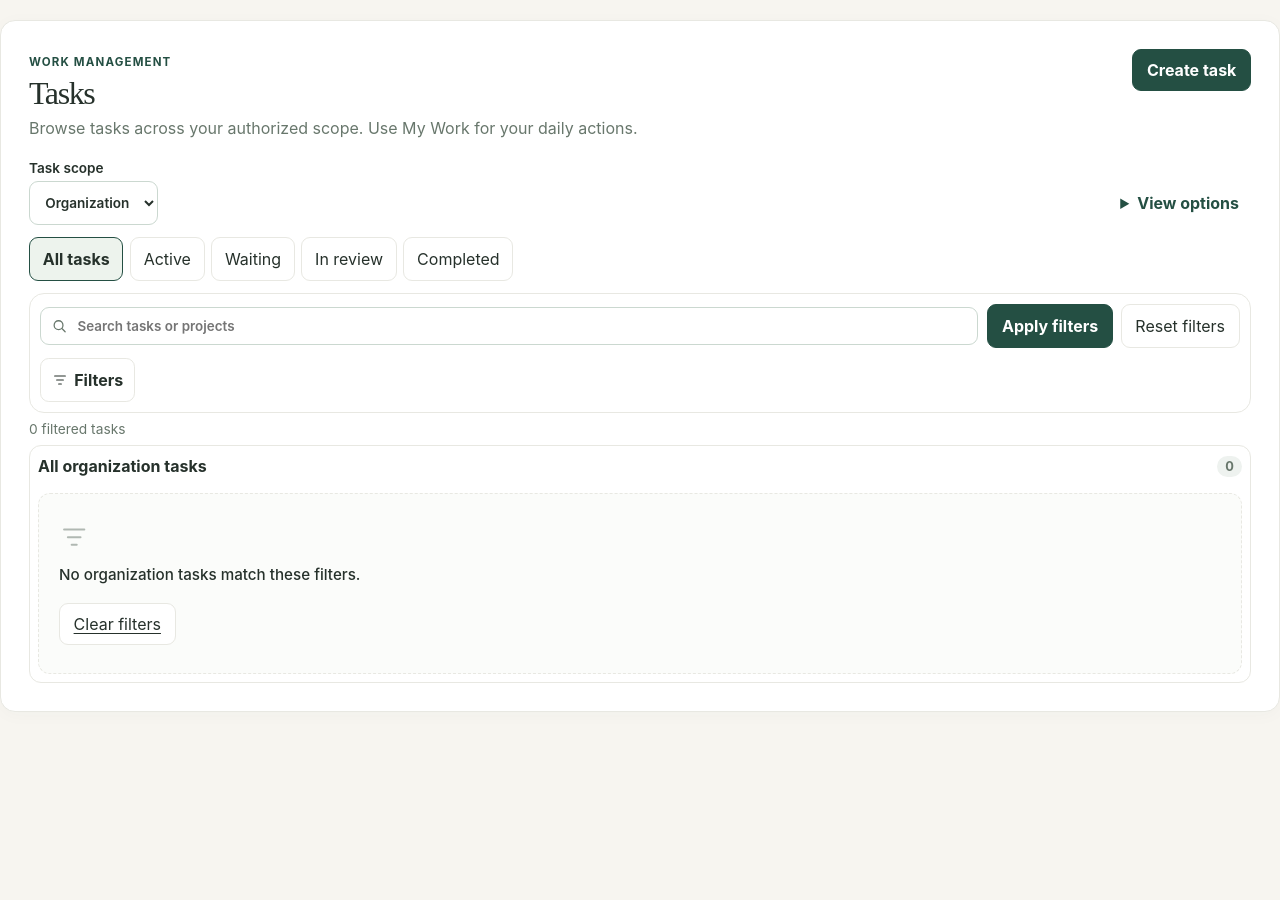
Scenario: TaskWorkspace › requires an explicit employee owner instead of an invalid self-task for an employee-less Owner
Click the button "Create task".
click(1192, 70)  # box [1132, 49, 1251, 91]
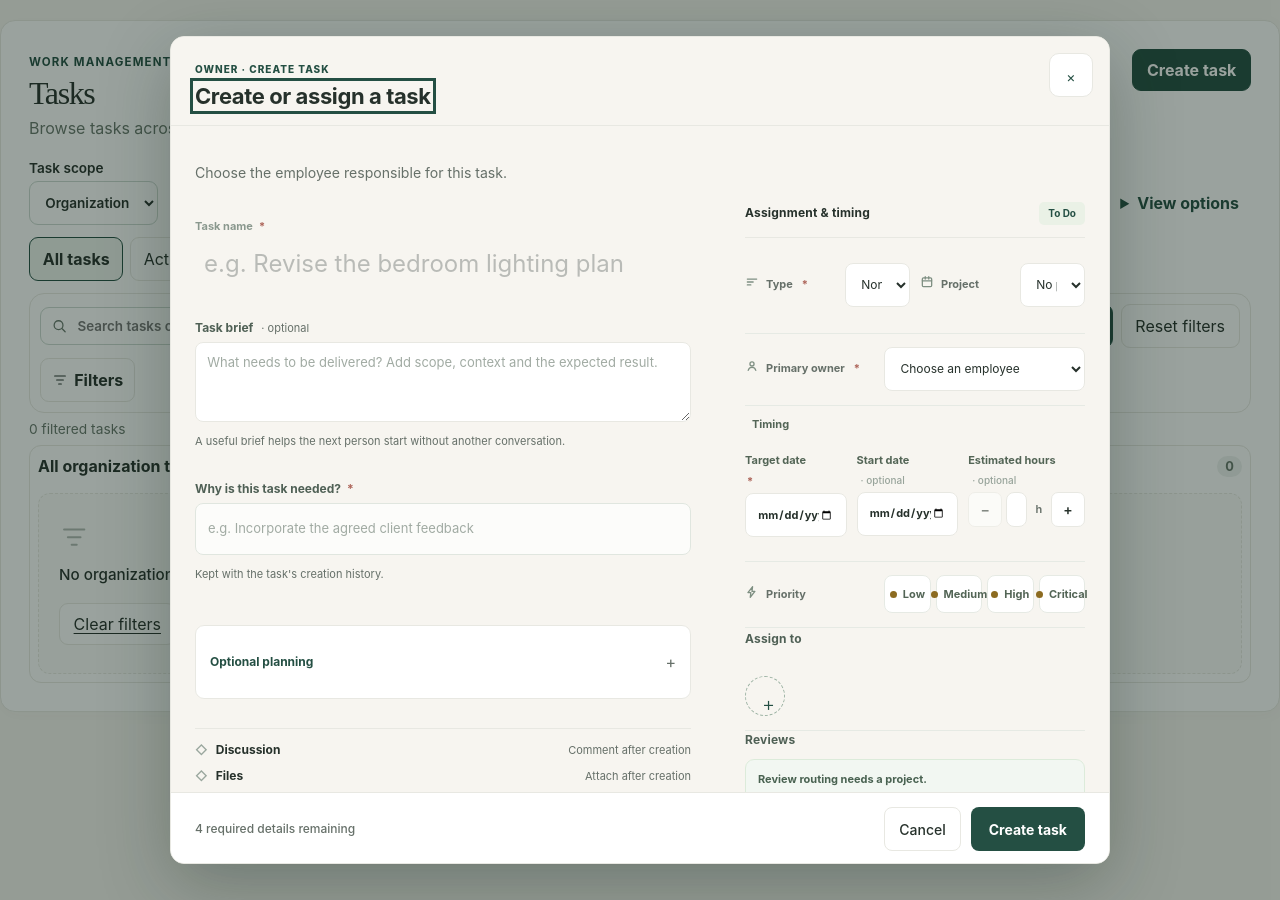
Type "Coordinate test delivery" into the field labelled "Task name".
click(443, 264); type("Coordinate test delivery")  # box [195, 239, 691, 289]
Type "2026-10-20" into the date field labelled "Target date".
click(796, 515); type("2026-10-20")  # box [745, 493, 847, 537]
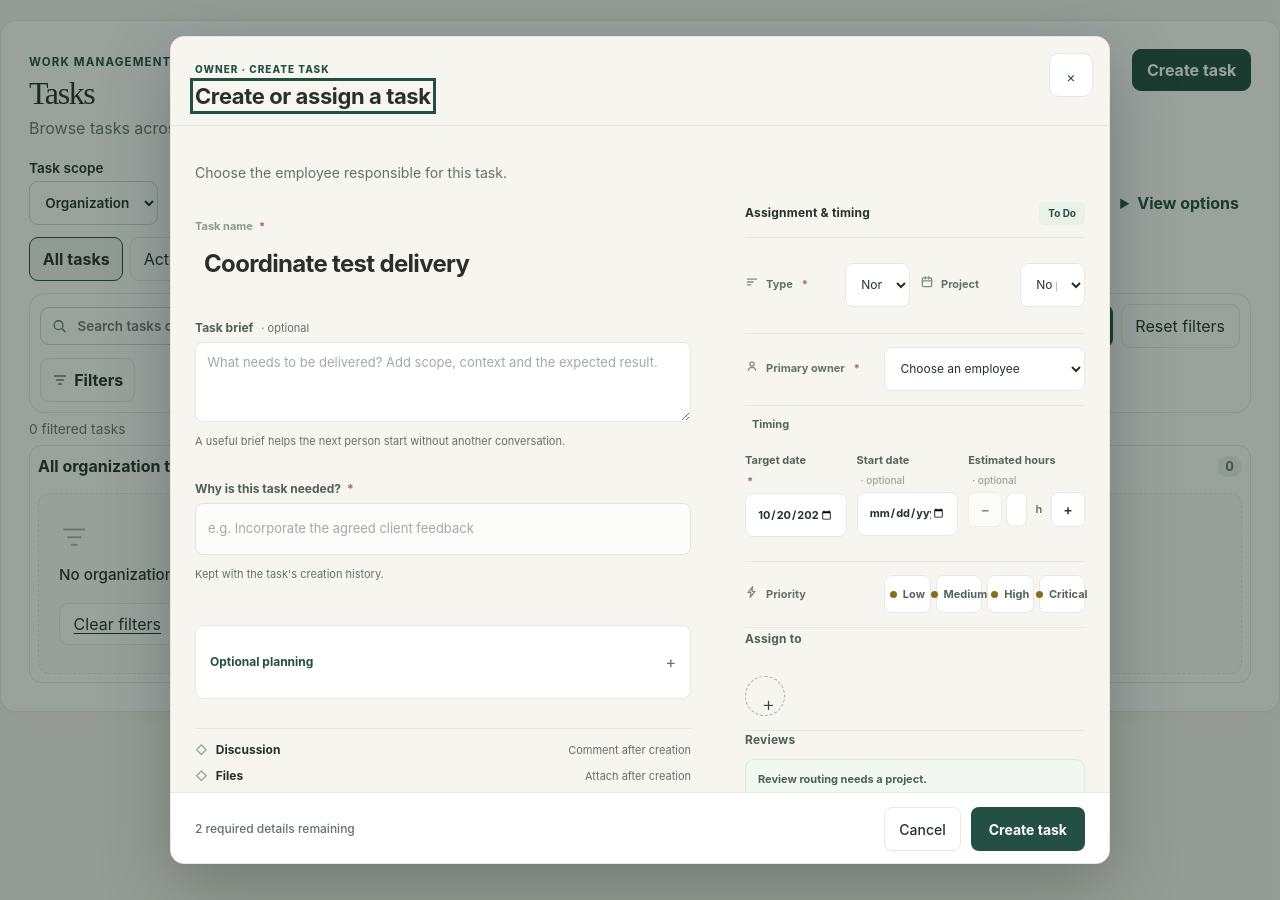
Type "Assign to the existing active employee" into the field named "Reason".
click(443, 529); type("Assign to the existing active employee")  # box [195, 503, 691, 555]
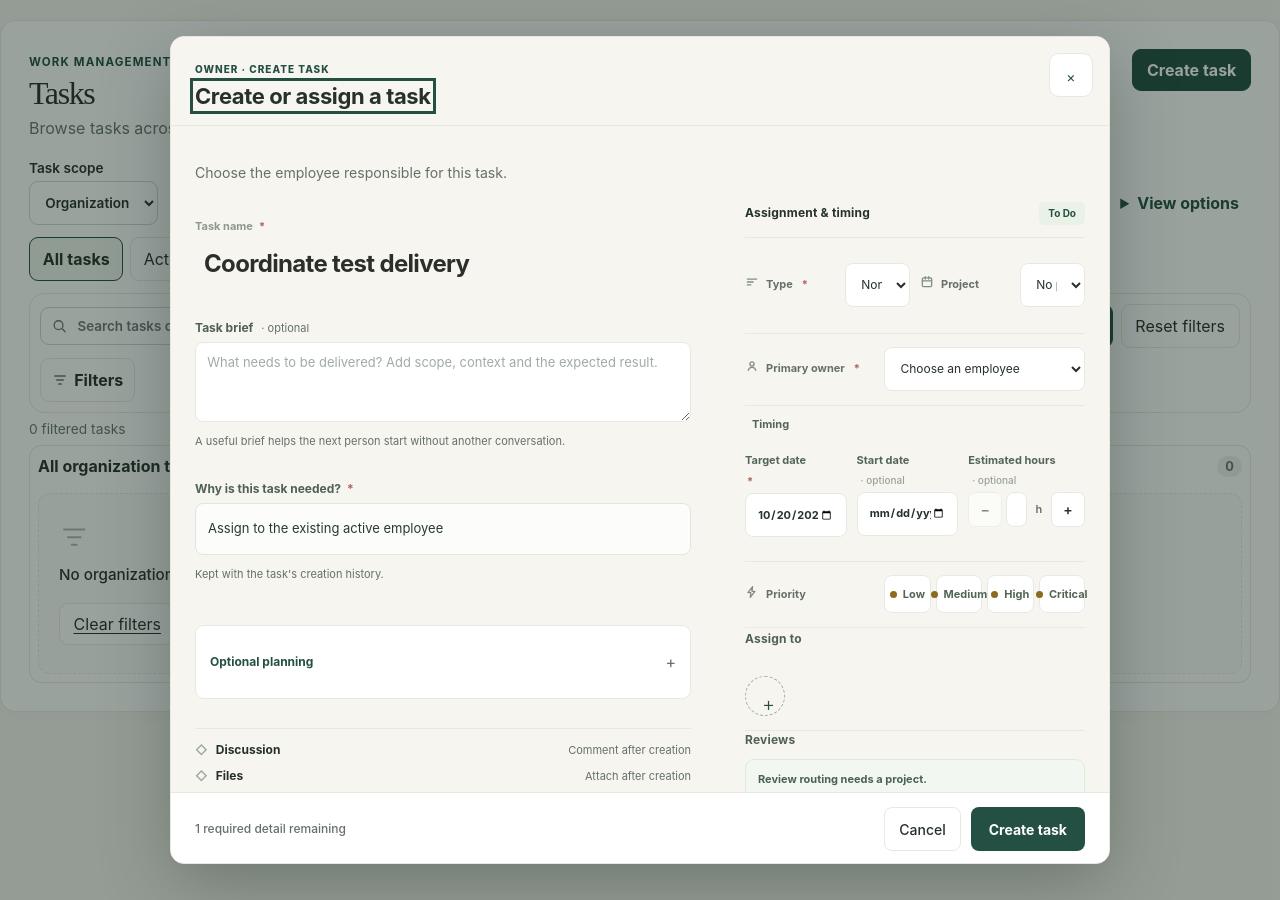
Now the button "Create task" is enabled
Click the button "Create task".
click(1028, 829)  # box [971, 807, 1085, 851]
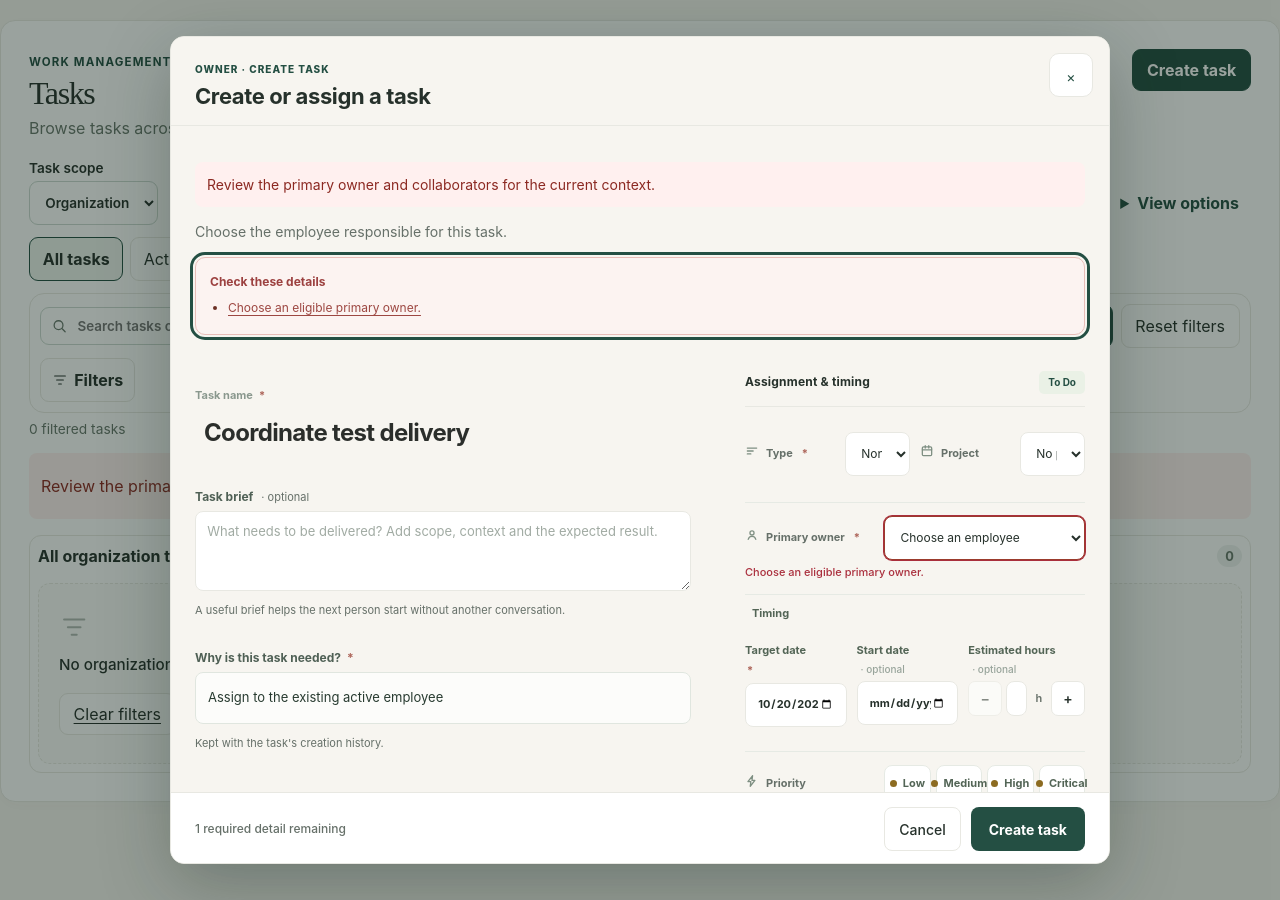
Now the dropdown named "Primary owner" is marked as invalid
Select "Dev" in the dropdown named "Primary owner" at coordinates (985, 538), box [884, 516, 1085, 560]
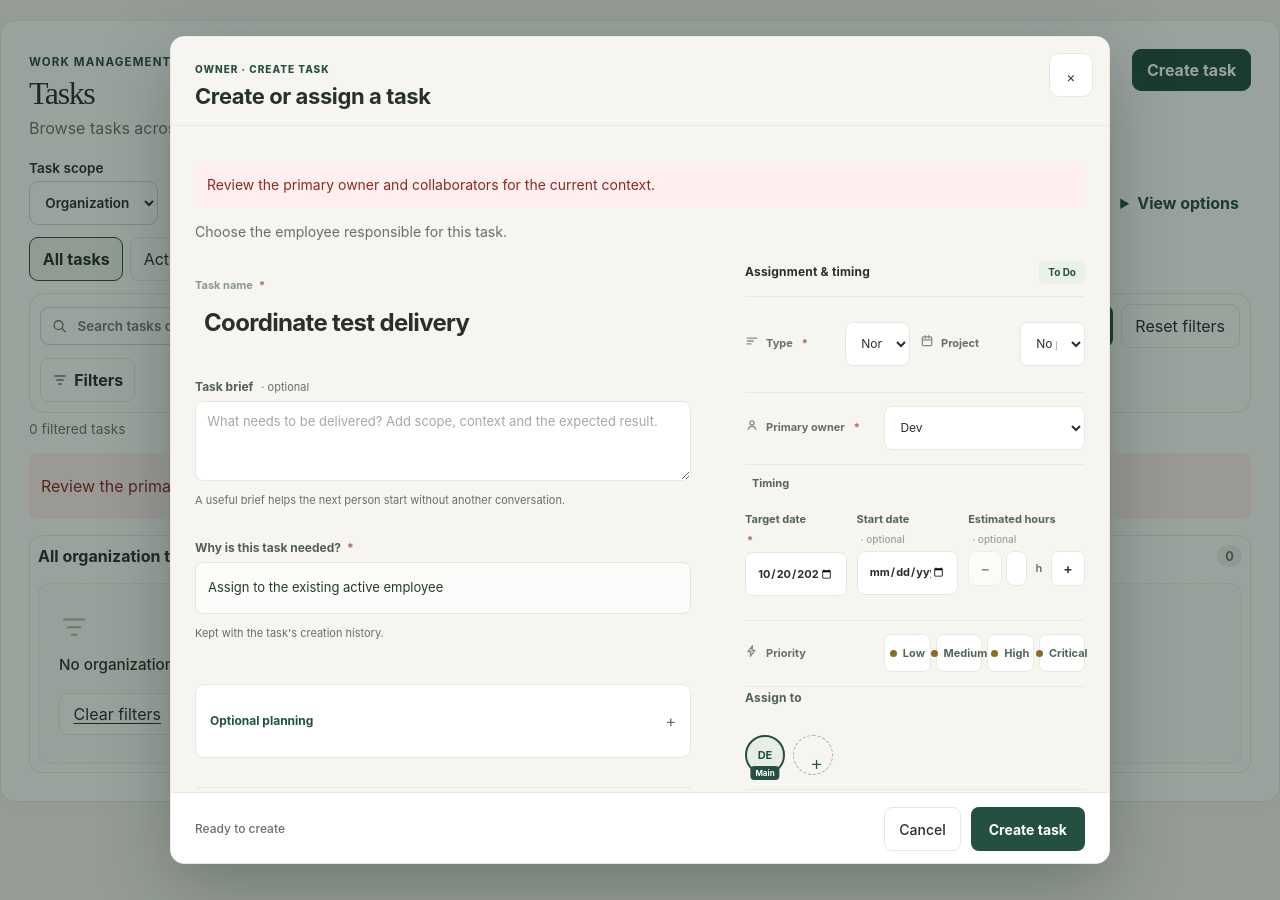
Now the button "Create task" is enabled
Click the button "Create task".
click(1028, 829)  # box [971, 807, 1085, 851]
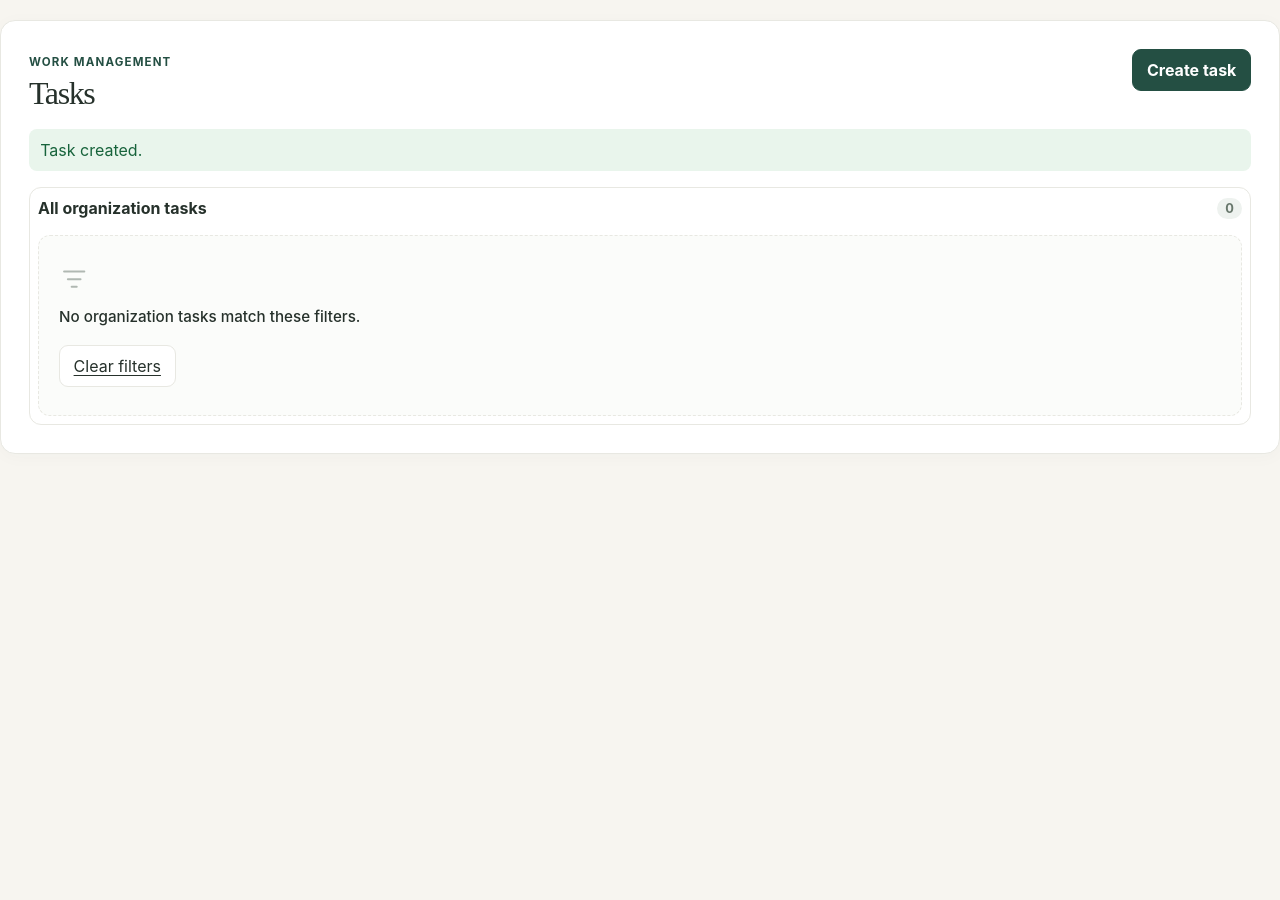
Now the text "Task created." is shown, box [29, 129, 1251, 171]
